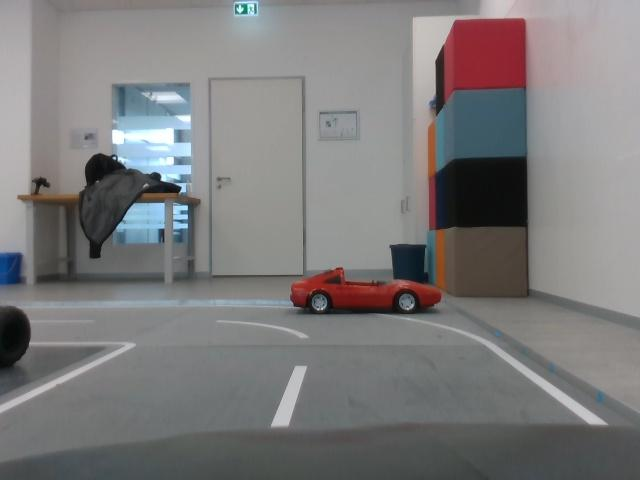car: (287, 262, 450, 325)
